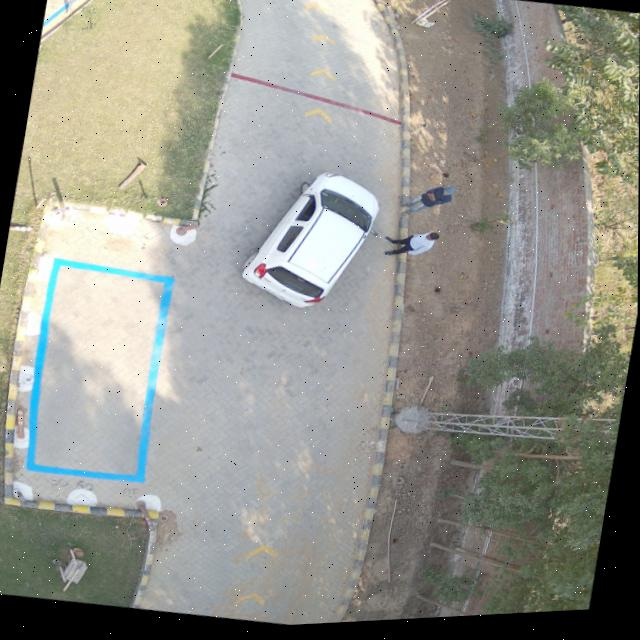car: (239, 176, 378, 310)
